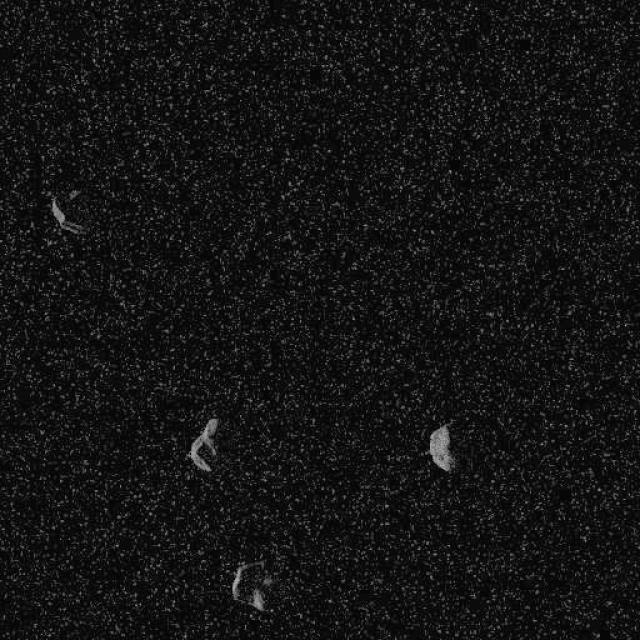D2: (230, 558, 272, 612), (188, 417, 220, 472), (48, 195, 88, 235), (428, 422, 457, 472)
